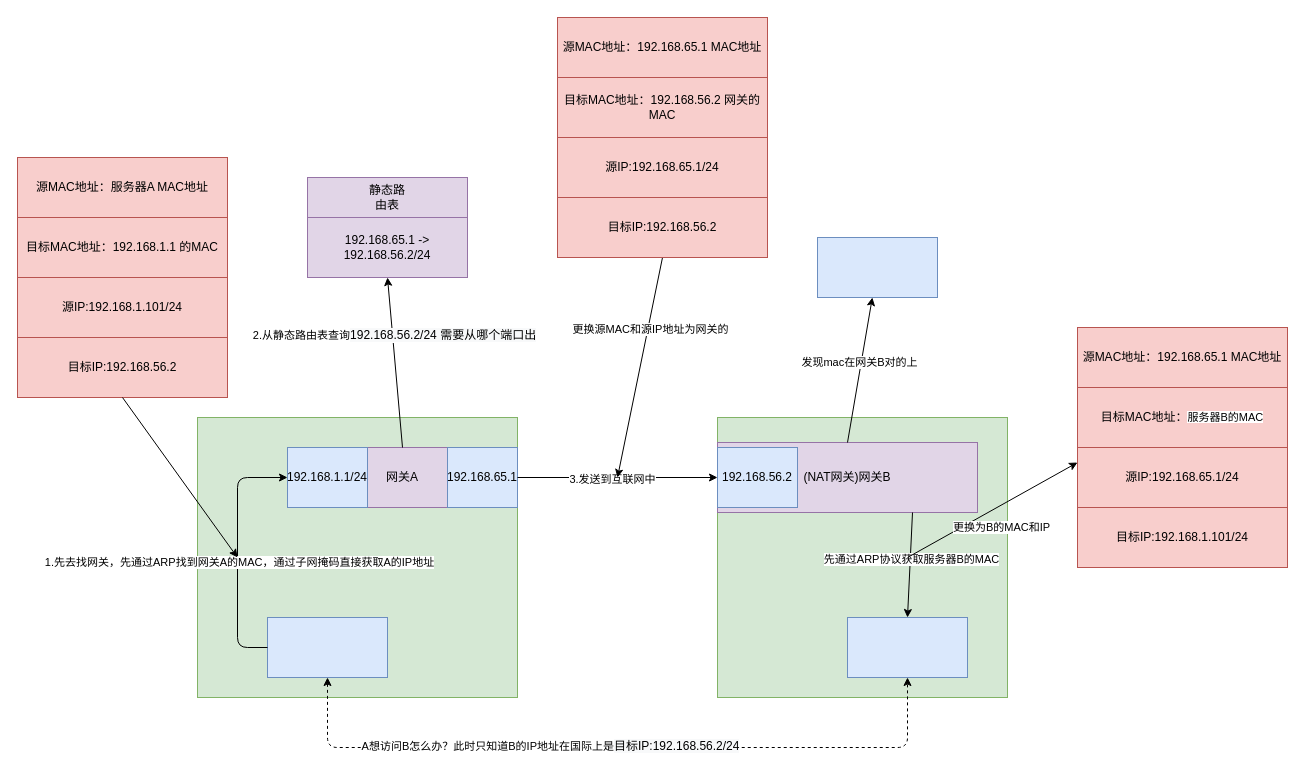
This 1305x774 diagram has some shape labels left out. Each missing label, with the centre of its shape:
"服务器A 内网IP地址：192.168.1.101/24" belongs at point 327,647.
"服务器B 内网IP地址: 192.168.1.101/24" belongs at point 907,647.
"记录了国际IP和本地IP的映射： 192.168.56.2->192.168.1.101" belongs at point 877,267.
